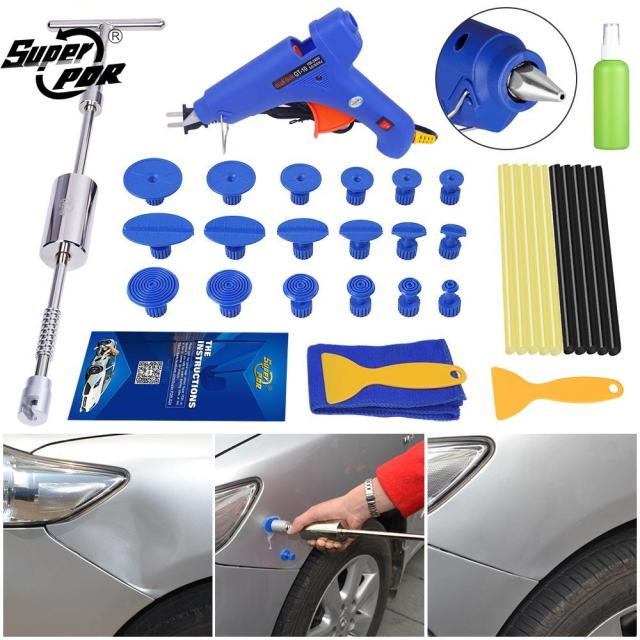dent: (44, 482, 184, 598)
